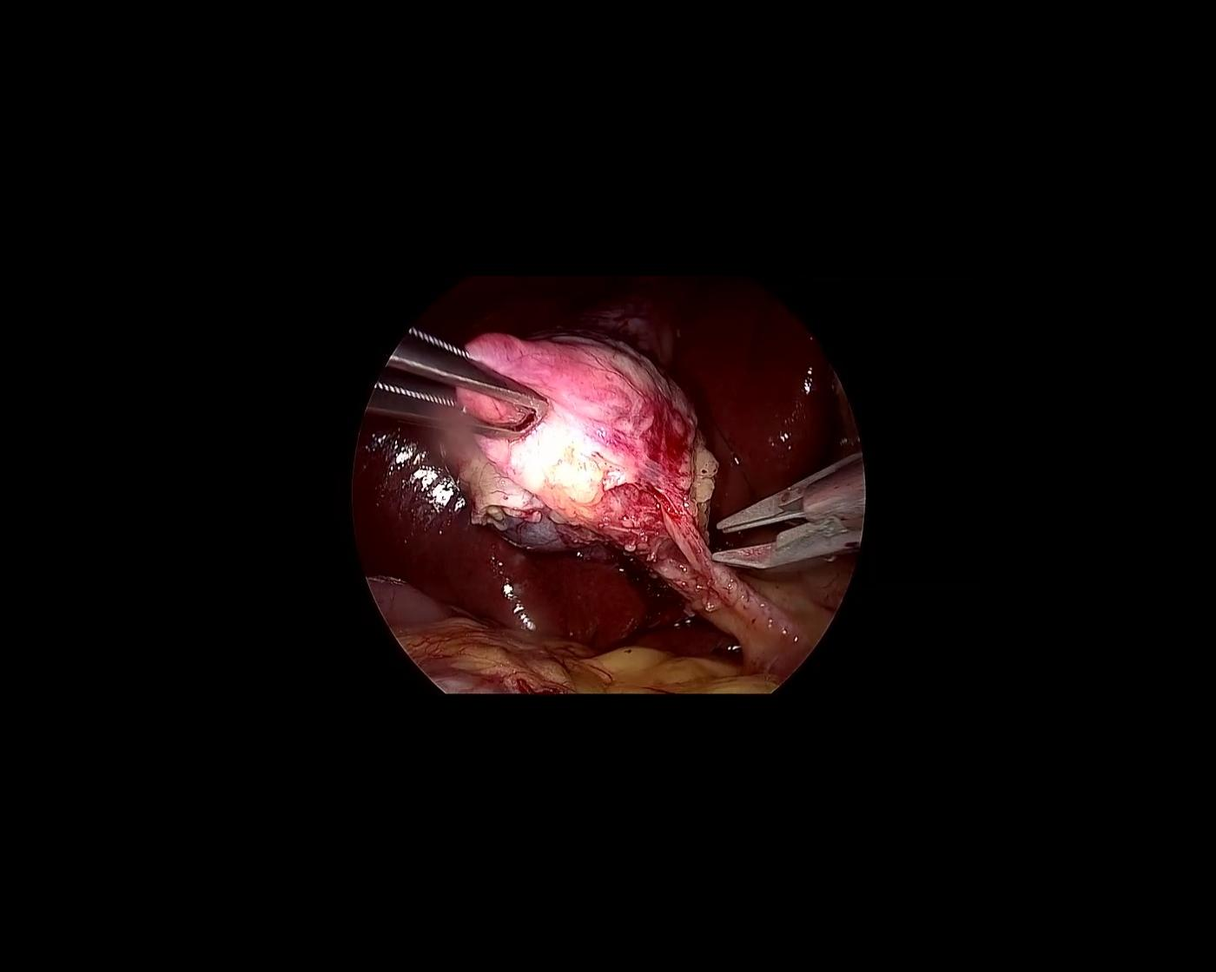Forceps: (358, 320, 555, 493)
Gallbladder: (440, 335, 705, 550)
Liver: (296, 397, 660, 719)
